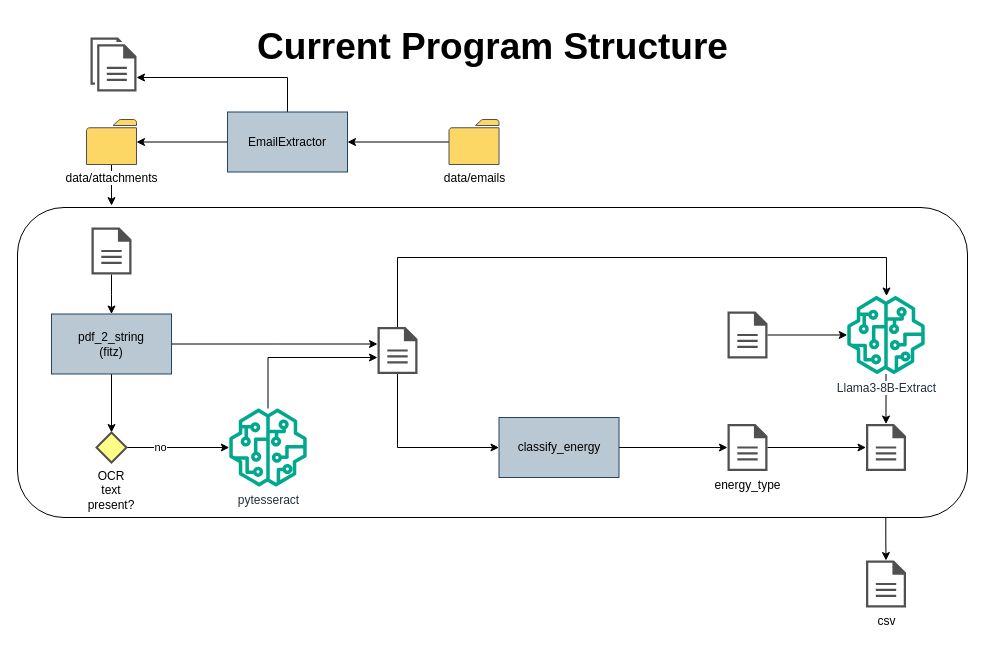
This 985x645 diagram has some shape labels left out. The shapes that lost their labels are listed below. From the top down, each one's centre as x and y in pixels, then its label:
the point at 113,64: email_data.json
the point at 111,250: PDF
the point at 397,350: pdf_str
the point at 747,334: global_prompt
the point at 886,447: output_dict
